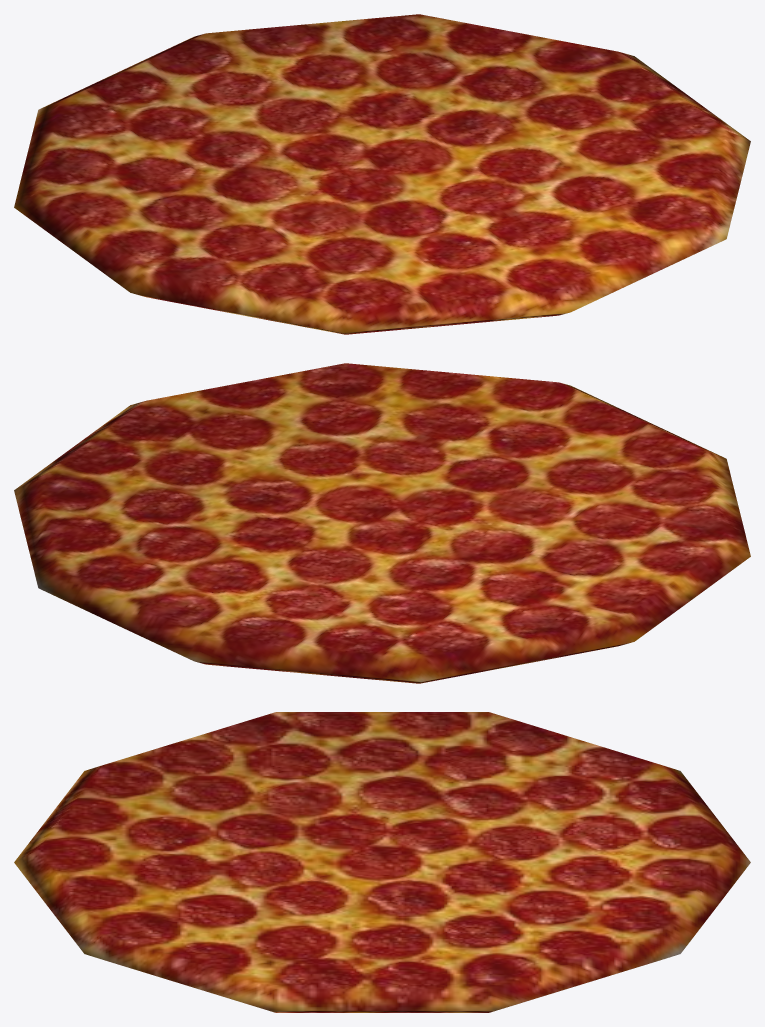
3 views of the same model, one above another, from view 1: azimuth 30°, elevation 25°; view 2: azimuth 150°, elevation 25°; view 3: azimuth 270°, elevation 25° (orthographic). The views are drawn at different scales.
Parts seen in each view (by area): view 1: Pizza_02002_Foods_04_0; view 2: Pizza_02002_Foods_04_0; view 3: Pizza_02002_Foods_04_0.
Boxes of the visible parts, box(x1,y1,x2,y2) form: Pizza_02002_Foods_04_0: box(14, 14, 750, 334); Pizza_02002_Foods_04_0: box(14, 363, 750, 683); Pizza_02002_Foods_04_0: box(14, 712, 750, 1012).
Size of the model in its own units: 0.6676 by 0.025 by 0.702.
1 material, 1 textured.
